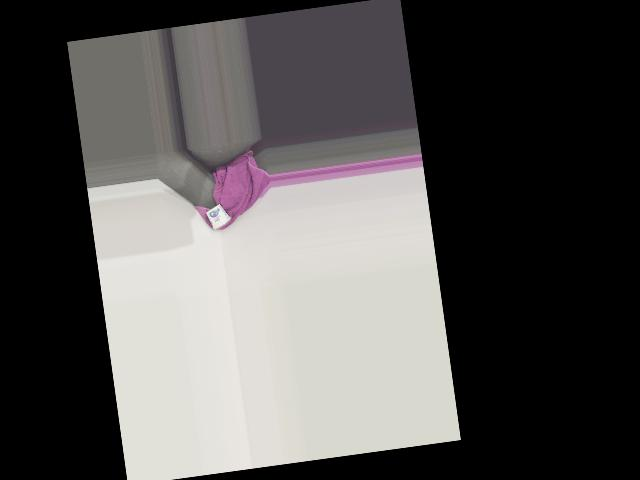cotage: (205, 203, 231, 231)
